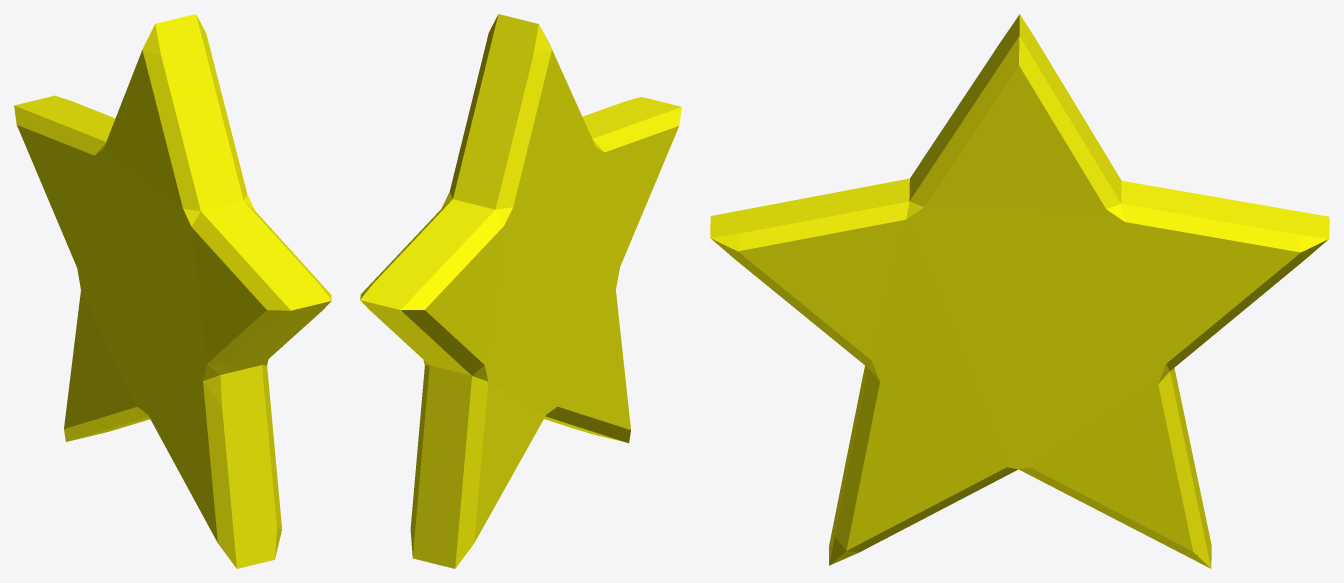
Rendered from star_beveled.fbx.
3 views of the same model, side by side, from view 1: azimuth 30°, elevation 25°; view 2: azimuth 150°, elevation 25°; view 3: azimuth 270°, elevation 25° (orthographic). The views are drawn at different scales.
Visible parts, largest first — view 1: Star_beveled; view 2: Star_beveled; view 3: Star_beveled.
Boxes of the visible parts, x1,y1,x2,y2 form: Star_beveled: (14,14,331,568); Star_beveled: (360,14,681,568); Star_beveled: (710,14,1329,568).
Size of the model in its own units: 0.0981 by 0.6786 by 0.7137.
